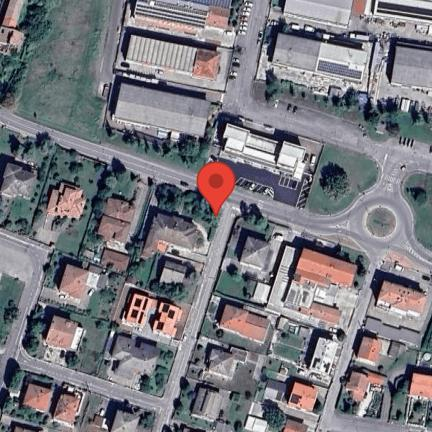area_open: (295, 136, 432, 297), (223, 158, 312, 208), (200, 353, 268, 399), (163, 233, 211, 271), (96, 356, 145, 392), (314, 284, 360, 314), (79, 390, 117, 421), (40, 346, 70, 367)
built: (107, 0, 237, 145), (265, 244, 357, 329), (220, 124, 307, 181), (272, 34, 369, 83), (123, 293, 182, 340), (142, 212, 199, 257), (110, 335, 163, 379), (220, 302, 271, 344), (376, 279, 428, 319), (284, 1, 355, 29), (392, 42, 432, 91), (365, 316, 424, 347), (97, 199, 137, 242), (46, 181, 88, 220), (44, 315, 85, 354), (348, 367, 388, 405), (205, 347, 251, 379), (374, 0, 432, 25), (2, 161, 39, 200), (0, 1, 25, 56), (309, 337, 339, 376), (59, 263, 91, 299), (191, 387, 224, 421), (241, 236, 272, 272), (287, 381, 320, 414), (299, 301, 344, 325), (52, 393, 82, 428), (20, 384, 52, 415), (357, 334, 382, 366), (110, 409, 141, 432), (100, 249, 130, 271), (160, 260, 186, 284), (263, 379, 286, 403), (410, 374, 432, 399), (245, 414, 268, 432)
vegetation_high: (84, 167, 140, 241), (151, 185, 219, 240), (2, 369, 52, 430), (20, 306, 54, 360)
vegetation_low: (0, 0, 212, 174), (250, 80, 432, 144), (29, 147, 108, 257), (332, 344, 432, 429), (41, 275, 124, 373), (169, 295, 227, 431), (0, 124, 60, 240), (304, 143, 381, 215), (214, 216, 275, 304), (125, 254, 201, 306), (267, 317, 319, 369), (137, 340, 178, 399), (402, 173, 432, 252), (0, 269, 24, 358), (336, 247, 371, 293), (43, 250, 70, 291)
